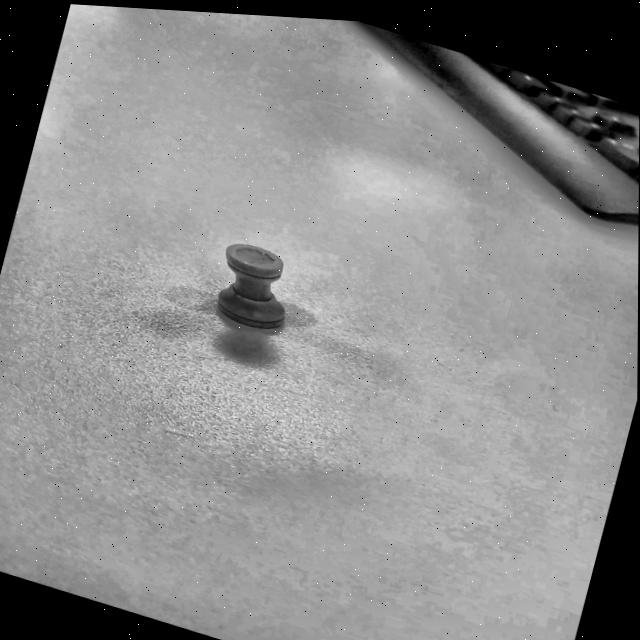white-rook: (217, 244, 283, 328)
